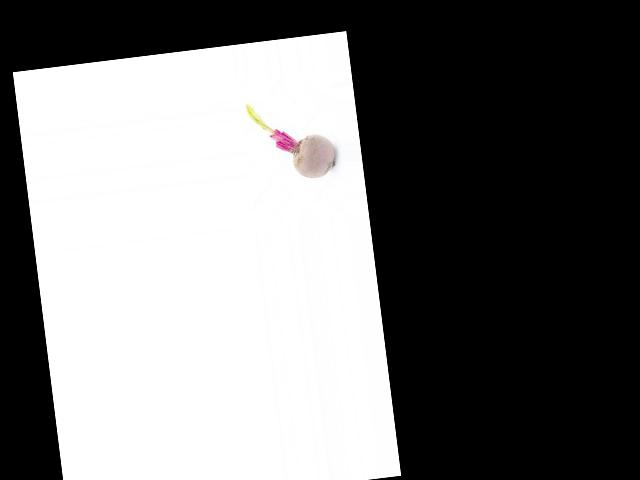beet: (245, 95, 337, 185)
